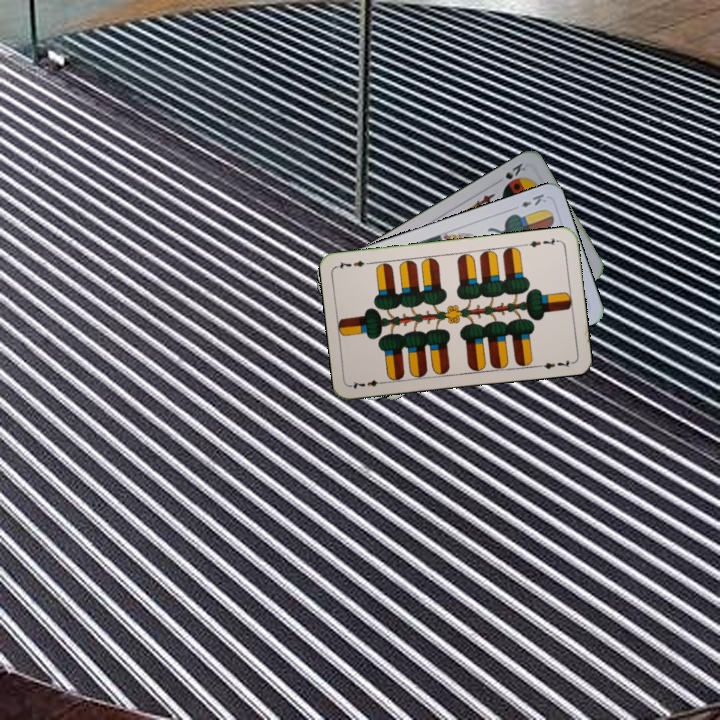E7: (521, 234, 562, 250), (348, 376, 388, 391)
EK: (509, 189, 549, 213)
SK: (501, 159, 528, 182)
